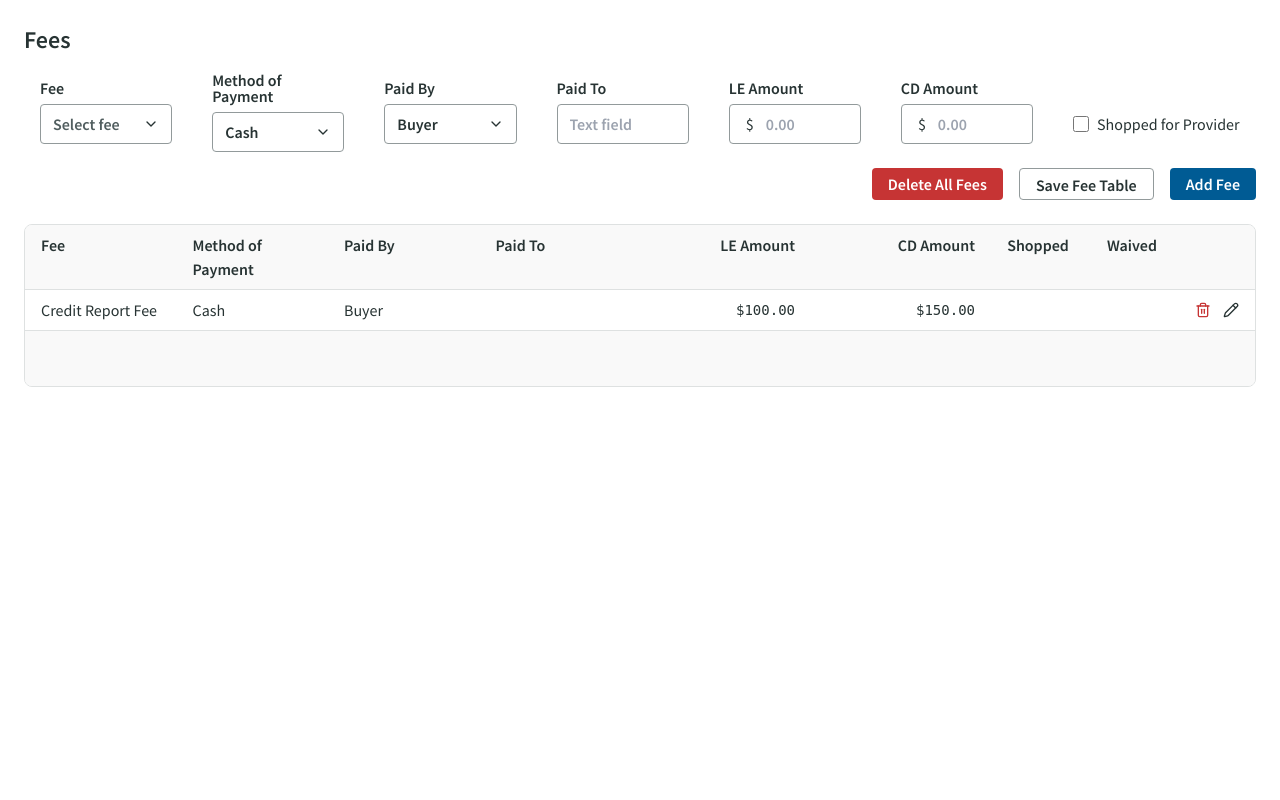
FeesContent › subtracts a partial waiver once and rejects an excessive waiver
Later steps or results of the test are not shown.
Click the button with test id "button-edit-fee-partial" at point(1231, 310), box [1223,302,1239,318]
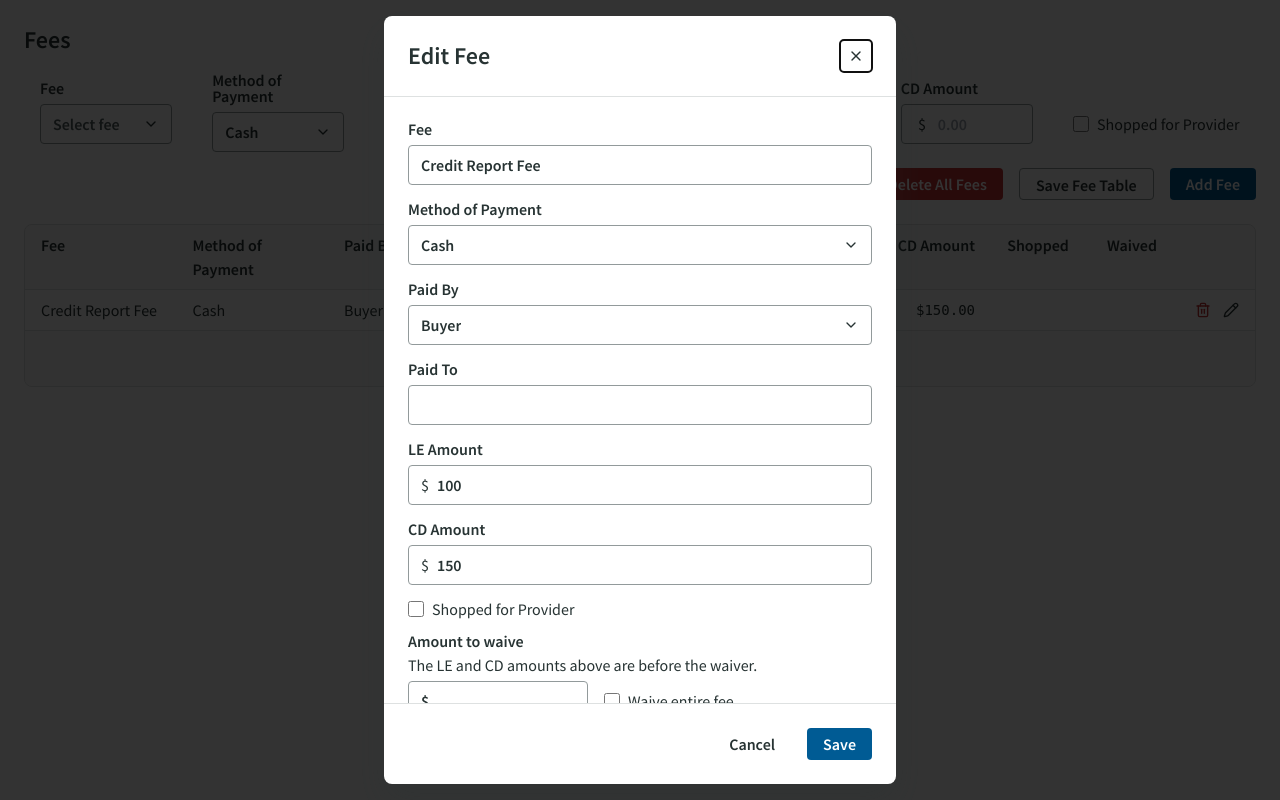
Type "25.50" into the field named "Amount to waive" at point(506, 701), box [437,691,575,711]
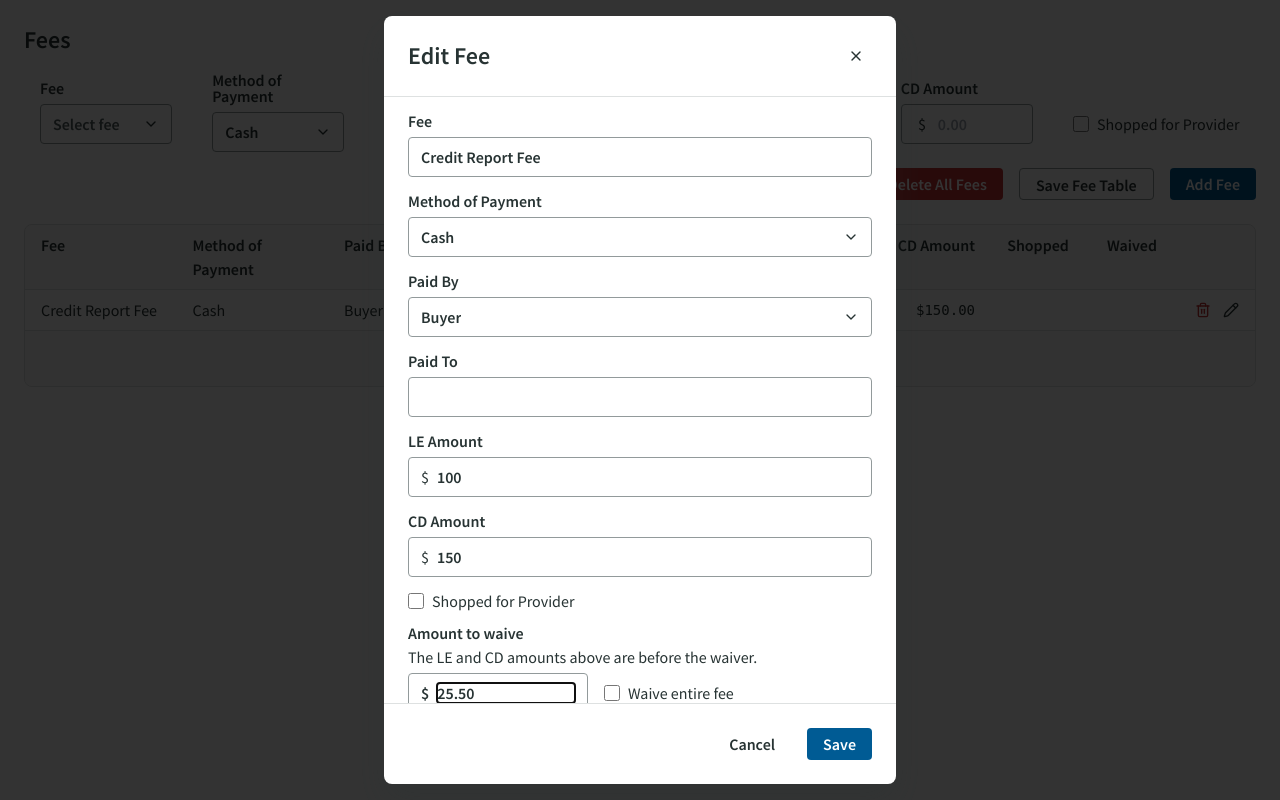
Click the button with test id "button-save-edit-fee" at point(840, 744), box [807,728,872,760]
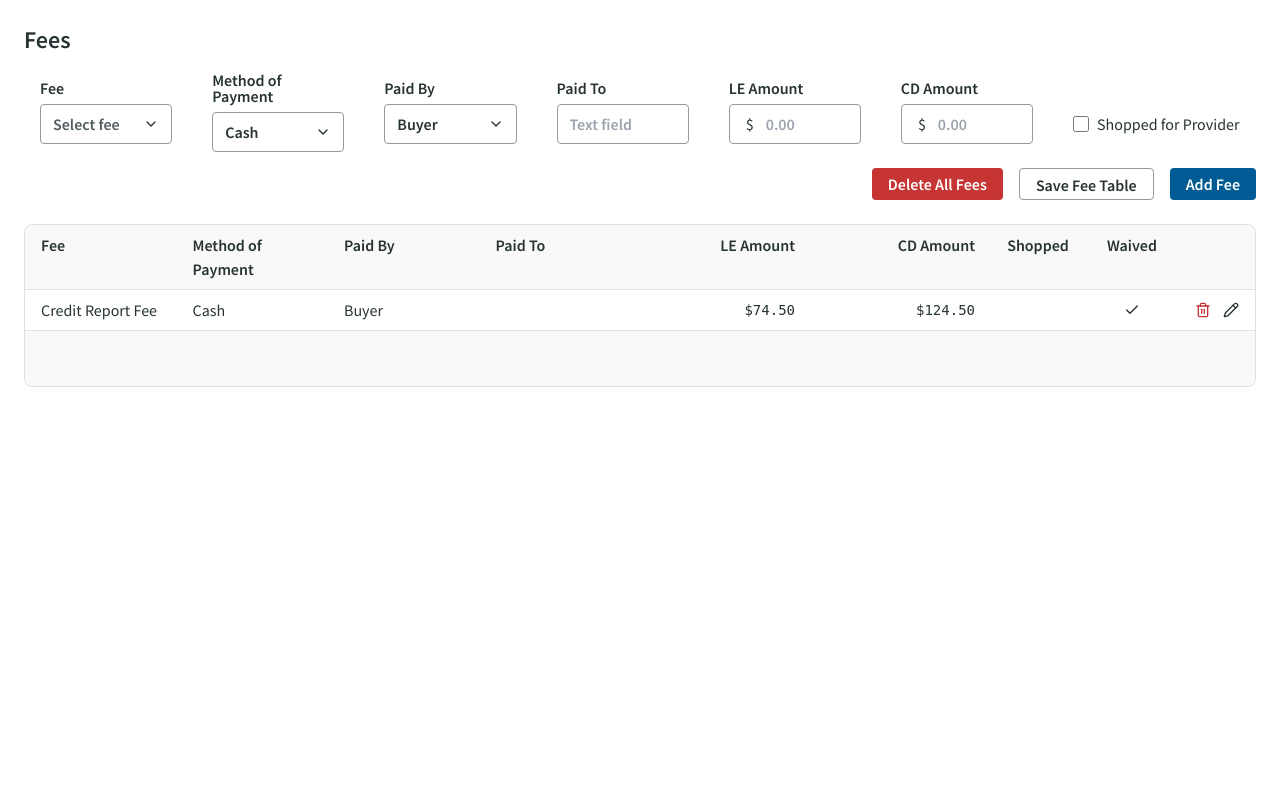
Click the button with test id "button-edit-fee-partial" at point(1231, 310), box [1223,302,1239,318]
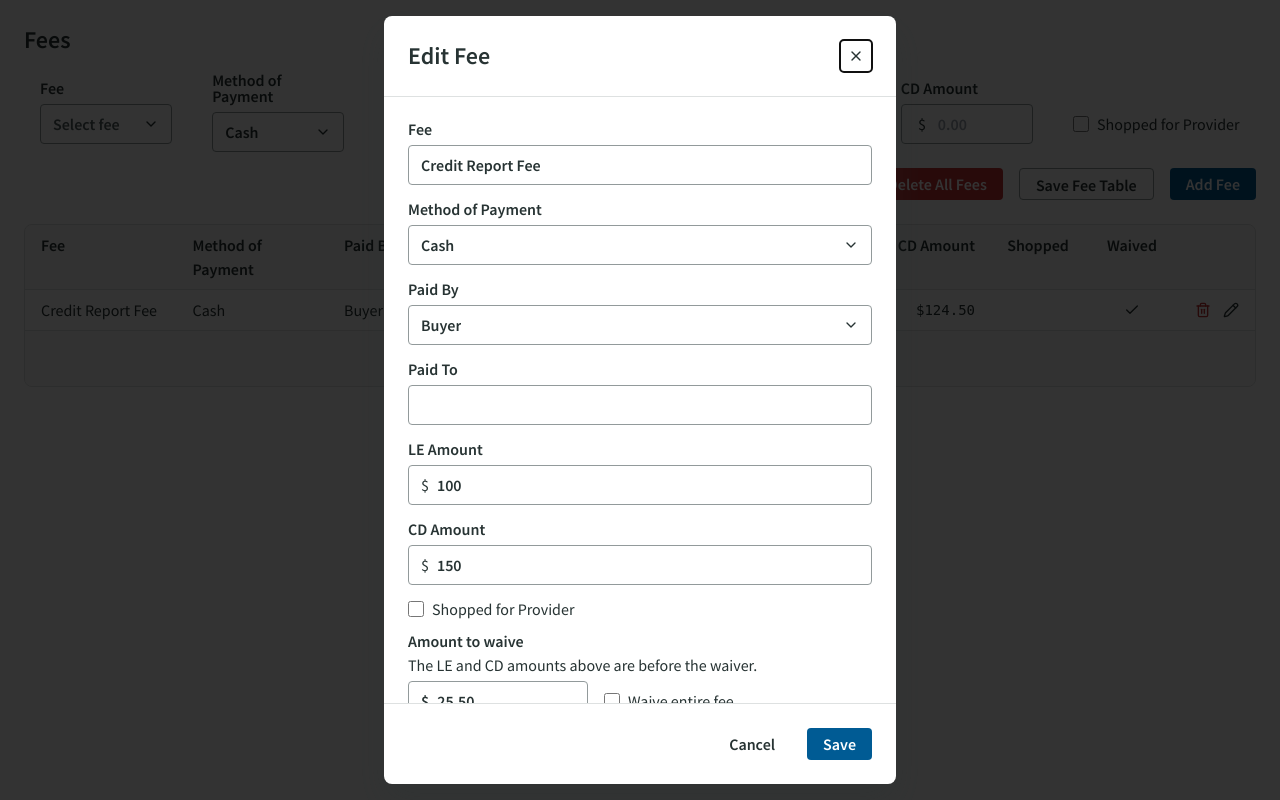
Click the button with test id "button-save-edit-fee" at point(840, 744), box [807,728,872,760]
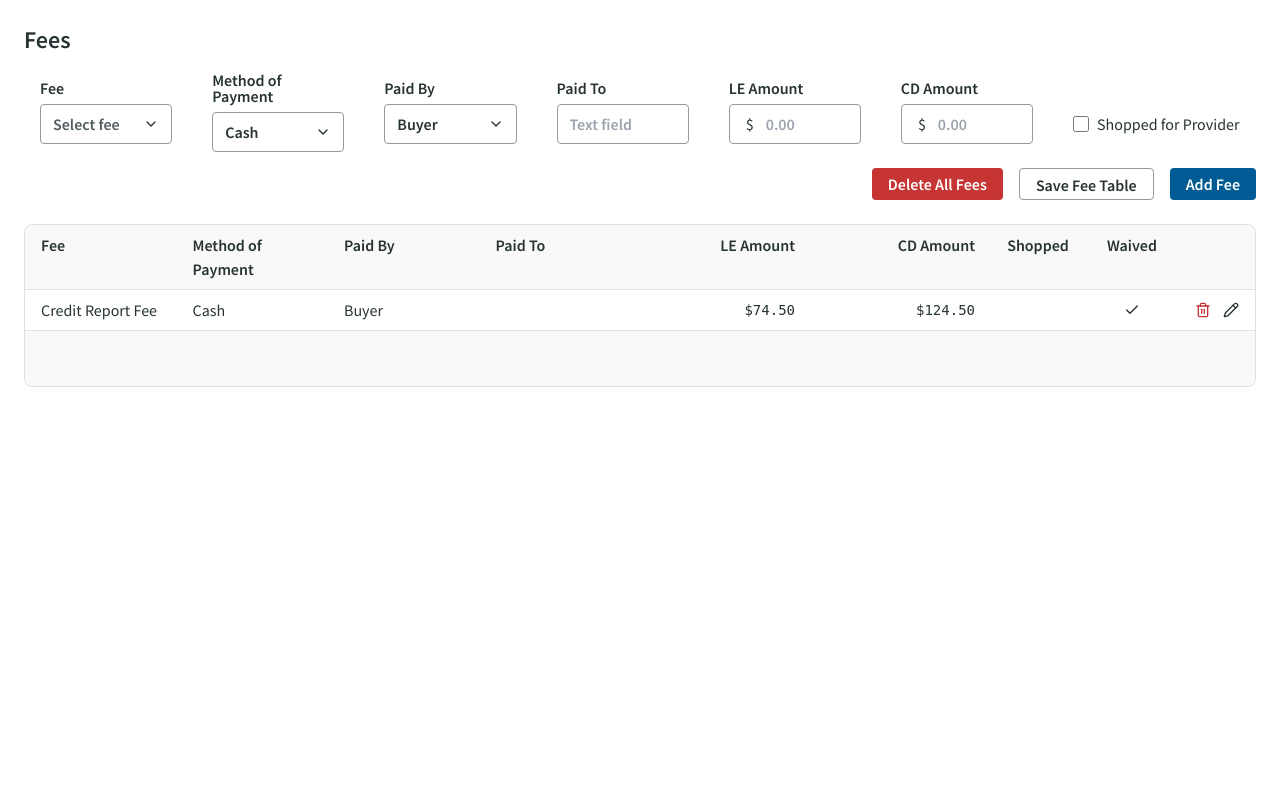
Check: the dialog with test id "fee-edit-dialog" is gone
